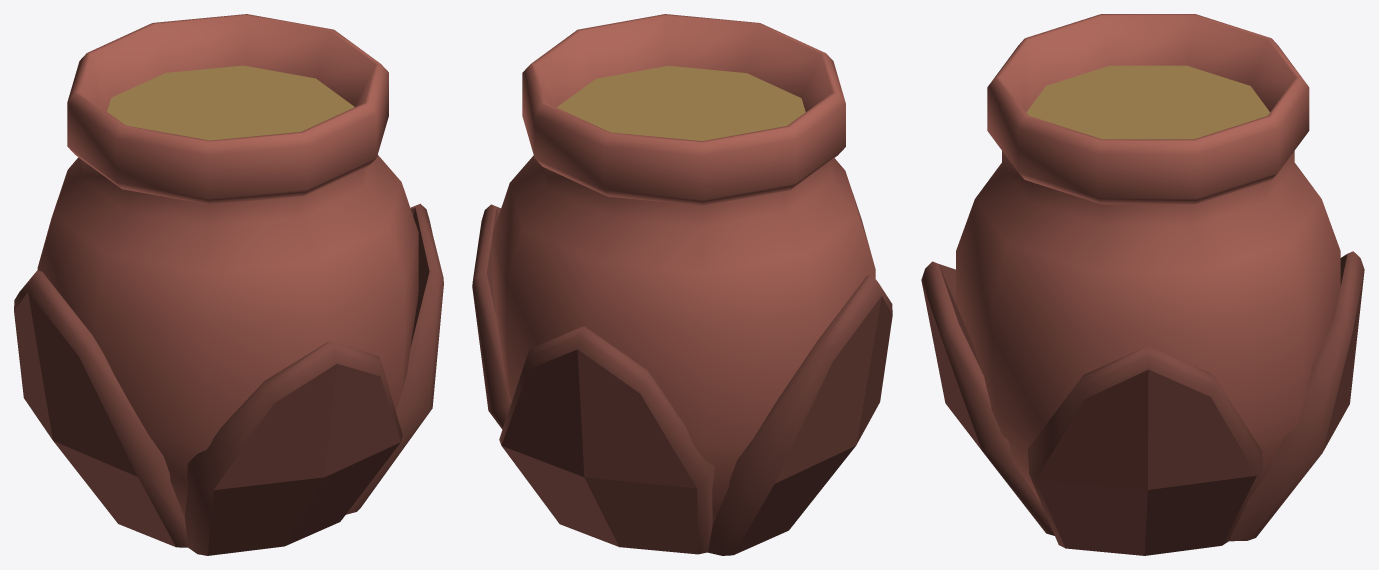
The model's file is Garden_Vase_00.fbx.
The picture shows the model from 3 angles, left to right: view 1: azimuth 30°, elevation 25°; view 2: azimuth 150°, elevation 25°; view 3: azimuth 270°, elevation 25°; orthographic projection.
Parts seen in each view (by area): view 1: Garden_Vase_00; view 2: Garden_Vase_00; view 3: Garden_Vase_00.
Boxes of the visible parts, bbox=[...] form: Garden_Vase_00: bbox=[14, 14, 443, 555]; Garden_Vase_00: bbox=[472, 14, 892, 555]; Garden_Vase_00: bbox=[921, 14, 1364, 555].
Bounding box in the file's own units: 39.31 × 39.58 × 37.38.
